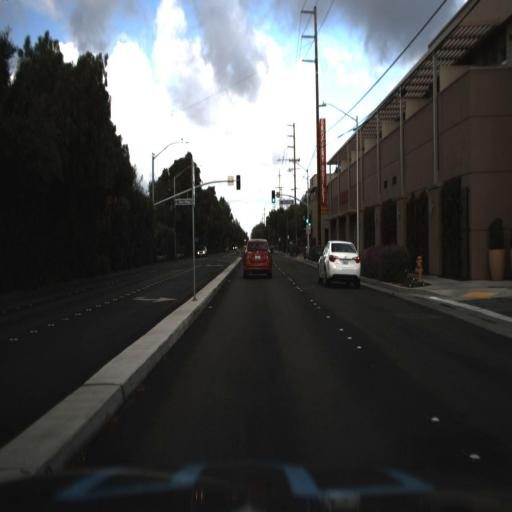car: (233, 232, 283, 288), (316, 234, 362, 293), (191, 242, 208, 261)
trafficLight-Green: (268, 188, 279, 212), (304, 216, 308, 229)
